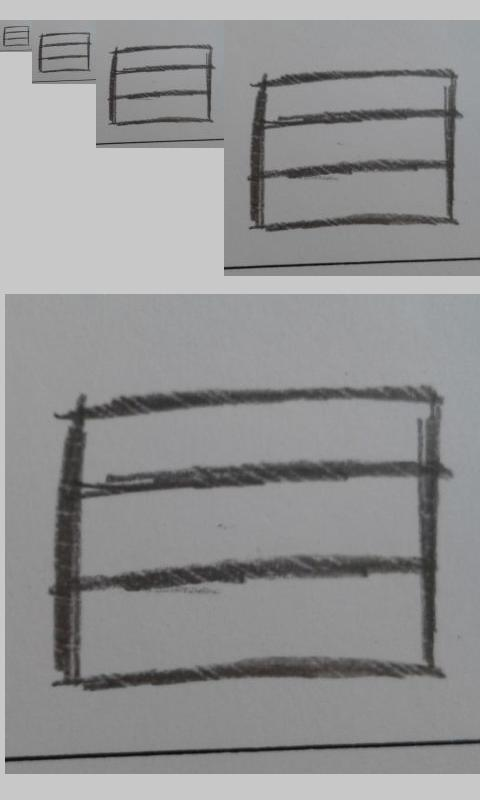list_view: (50, 386, 442, 692), (248, 68, 458, 233), (107, 43, 214, 126), (38, 31, 90, 73), (2, 25, 30, 47)
